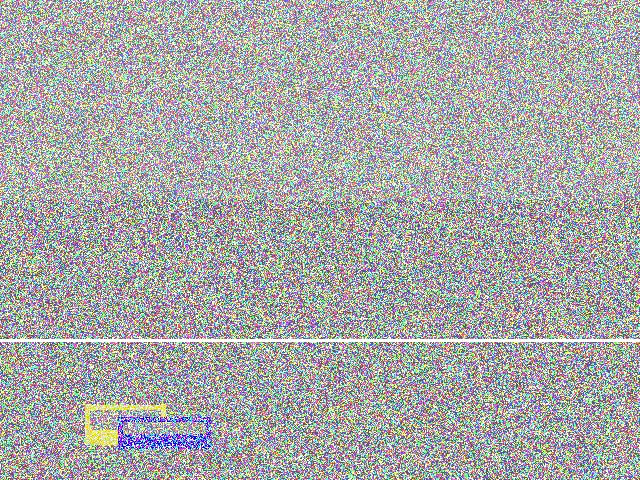bus: (276, 280, 348, 398)
truck: (321, 115, 470, 212), (458, 218, 600, 305)
